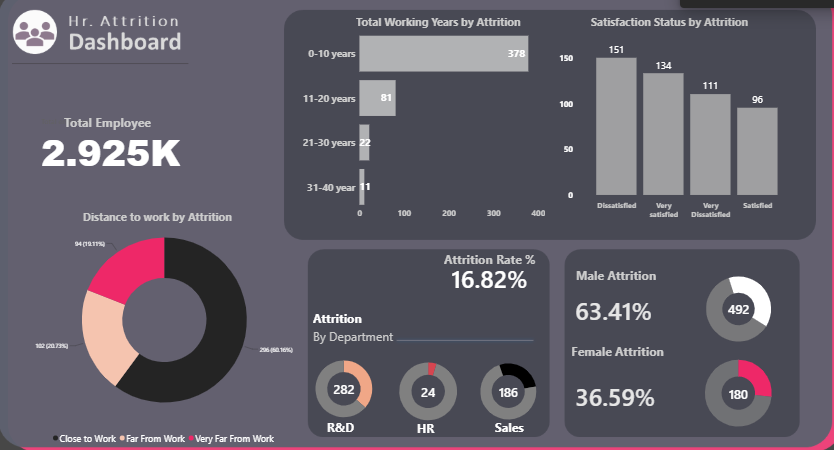

Layout of this report page (visuals, bound fields, positions):
{"tool":"powerbi","page":{"name":"Page 1","canvas":[1920,1080],"ordinal":0},"visuals":[{"type":"cardVisual","fields":{"Data":["my measure.Total employee"]},"box":[124.4,255.6,353.3,248.9],"z":0},{"type":"donutChart","fields":{"Category":["Raw Data.Distance Status"],"Y":["my measure.Total Attrition"]},"box":[0,503.9,821.4,549.3],"z":2000},{"type":"barChart","fields":{"Category":["Raw Data.Total working years band "],"Y":["my measure.Total Attrition"]},"box":[698,105.8,566.9,451],"z":3000},{"type":"columnChart","fields":{"Category":["Raw Data.satisfaction satus"],"Y":["my measure.Total Attrition"]},"box":[1264.9,123.5,556.9,433.4],"z":4000},{"type":"cardVisual","fields":{"Data":["my measure.% Attrition"]},"box":[1028,556.9,262,221.7],"z":5000},{"type":"donutChart","fields":{"Y":["my measure.HR Measure","my measure.Total Attrition"]},"box":[884.4,823.9,216.7,189],"z":6000},{"type":"donutChart","fields":{"Y":["my measure.R&D Measure","my measure.Total Attrition"]},"box":[703,818.9,206.6,186.5],"z":7000},{"type":"donutChart","fields":{"Y":["my measure.Sale Measure","my measure.Total Attrition"]},"box":[1075.9,823.9,186.5,189],"z":8000},{"type":"donutChart","fields":{"Y":["my measure.Total Attrition","my measure.Male Gender"]},"box":[1559.7,632.4,231.8,209.1],"z":9000},{"type":"textbox","box":[189,307.4,244.4,40.3],"z":9001},{"type":"textbox","box":[231.8,516.5,357.8,40.3],"z":9002},{"type":"textbox","box":[834,85.7,430.9,37.8],"z":9003},{"type":"textbox","box":[1350.6,85.7,357.8,40.3],"z":9004},{"type":"textbox","box":[1028,607.2,216.7,47.9],"z":9005},{"type":"textbox","box":[768.5,977.6,73.1,52.9],"z":9006},{"type":"textbox","box":[967.6,980.2,50.4,40.3],"z":9007},{"type":"textbox","box":[1138.9,977.6,80.6,37.8],"z":9008},{"type":"textbox","box":[738.3,738.3,244.4,40.3],"z":9009},{"type":"textbox","box":[738.3,778.6,244.4,40.3],"z":9010},{"type":"shape","box":[914.6,781.1,317.5,50.4],"z":9011},{"type":"donutChart","fields":{"Y":["my measure.Female Gender","my measure.Total Attrition"]},"box":[1529.4,816.4,292.3,214.2],"z":9012},{"type":"textbox","box":[1317.8,642.5,226.8,50.4],"z":9013},{"type":"textbox","box":[1300.2,811.3,244.4,40.3],"z":9014},{"type":"cardVisual","fields":{"Data":["my measure.% Male"]},"box":[1300,675.6,260,122.2],"z":9015},{"type":"cardVisual","fields":{"Data":["my measure.% Female"]},"box":[1300,875.6,244.4,104.4],"z":9016}]}

Visuals, with their boxes on the page's 1920x1080 design canvas (x1, y1, x2, y2). These are canvas units, not pixel positions in the 834x450 screenshot, which may show the page scaled, cropped or inside an application window:
cardVisual - my measure.Total employee: left=124, top=256, right=478, bottom=504
donutChart - Raw Data.Distance Status x my measure.Total Attrition: left=0, top=504, right=821, bottom=1053
barChart - Raw Data.Total working years band  x my measure.Total Attrition: left=698, top=106, right=1265, bottom=557
columnChart - Raw Data.satisfaction satus x my measure.Total Attrition: left=1265, top=124, right=1822, bottom=557
cardVisual - my measure.% Attrition: left=1028, top=557, right=1290, bottom=779
donutChart - my measure.HR Measure x my measure.Total Attrition: left=884, top=824, right=1101, bottom=1013
donutChart - my measure.R&D Measure x my measure.Total Attrition: left=703, top=819, right=910, bottom=1005
donutChart - my measure.Sale Measure x my measure.Total Attrition: left=1076, top=824, right=1262, bottom=1013
donutChart - my measure.Total Attrition x my measure.Male Gender: left=1560, top=632, right=1792, bottom=842
textbox: left=189, top=307, right=433, bottom=348
textbox: left=232, top=516, right=590, bottom=557
textbox: left=834, top=86, right=1265, bottom=124
textbox: left=1351, top=86, right=1708, bottom=126
textbox: left=1028, top=607, right=1245, bottom=655
textbox: left=768, top=978, right=842, bottom=1030
textbox: left=968, top=980, right=1018, bottom=1020
textbox: left=1139, top=978, right=1220, bottom=1015
textbox: left=738, top=738, right=983, bottom=779
textbox: left=738, top=779, right=983, bottom=819
shape: left=915, top=781, right=1232, bottom=832
donutChart - my measure.Female Gender x my measure.Total Attrition: left=1529, top=816, right=1822, bottom=1031
textbox: left=1318, top=642, right=1545, bottom=693
textbox: left=1300, top=811, right=1545, bottom=852
cardVisual - my measure.% Male: left=1300, top=676, right=1560, bottom=798
cardVisual - my measure.% Female: left=1300, top=876, right=1544, bottom=980
